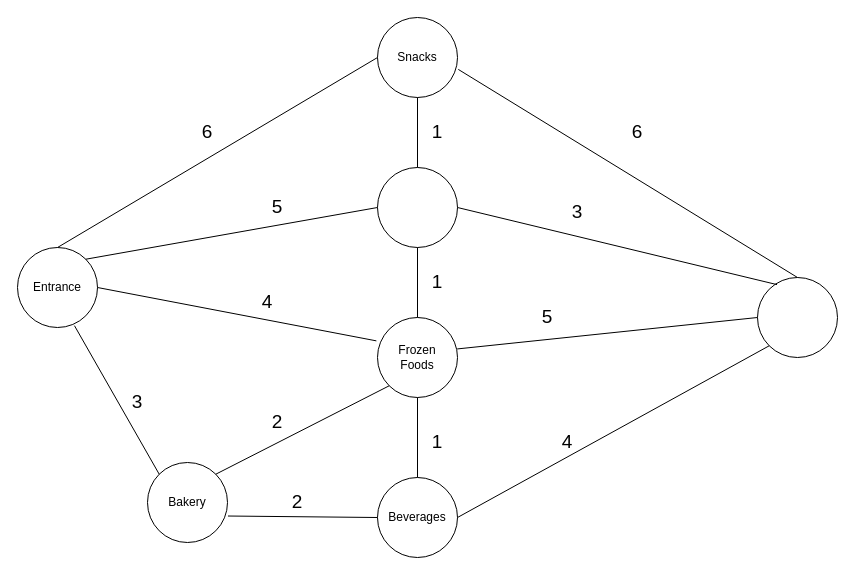
Some shapes in this 855 by 575 pixel diagram are drawn without their labels. The shapes that lost their labels are listed below. From the top down, each one's centre as x and y in pixels, then its label:
the point at 417,207: Canned Goods
the point at 797,317: Produce
